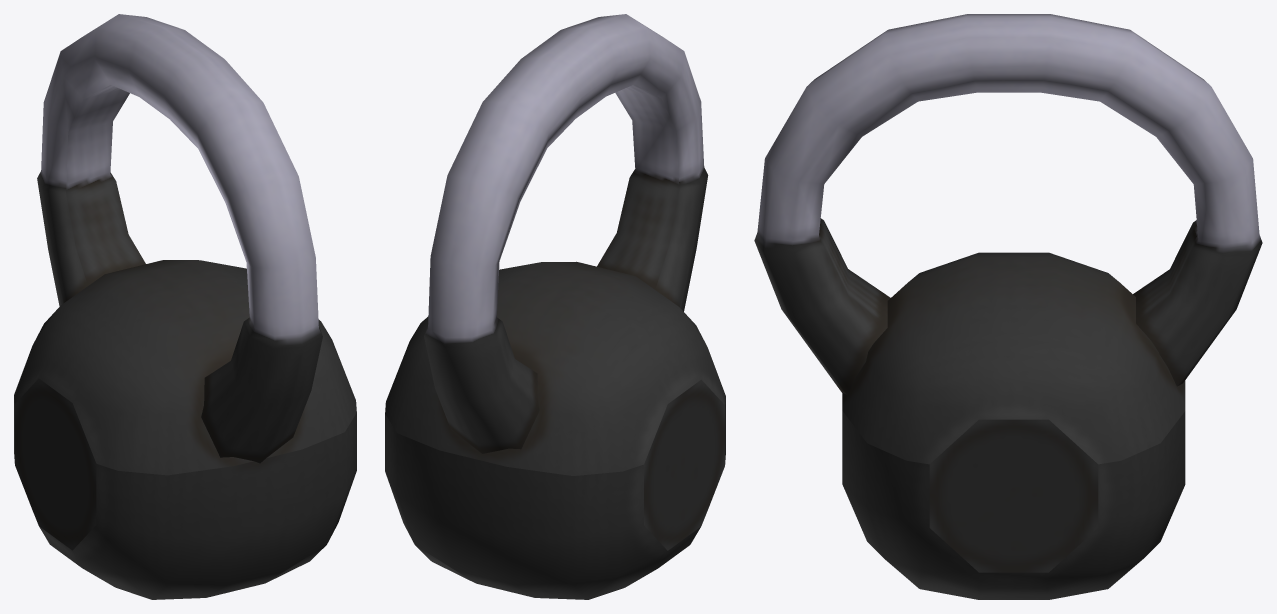
File: MSH_KettleBell_02.FBX
3 renders of one model, left to right at view 1: azimuth 30°, elevation 25°; view 2: azimuth 150°, elevation 25°; view 3: azimuth 270°, elevation 25°, orthographic. The views are drawn at different scales.
Visible parts, largest first — view 1: MSH_KettleBell_02; view 2: MSH_KettleBell_02; view 3: MSH_KettleBell_02.
Boxes of the visible parts, box(x1,y1,x2,y2) form: MSH_KettleBell_02: box(14, 14, 356, 599); MSH_KettleBell_02: box(385, 14, 725, 599); MSH_KettleBell_02: box(754, 14, 1262, 599).
Size of what is drawn, in the model's own units: 13.13 by 21.48 by 25.2.
